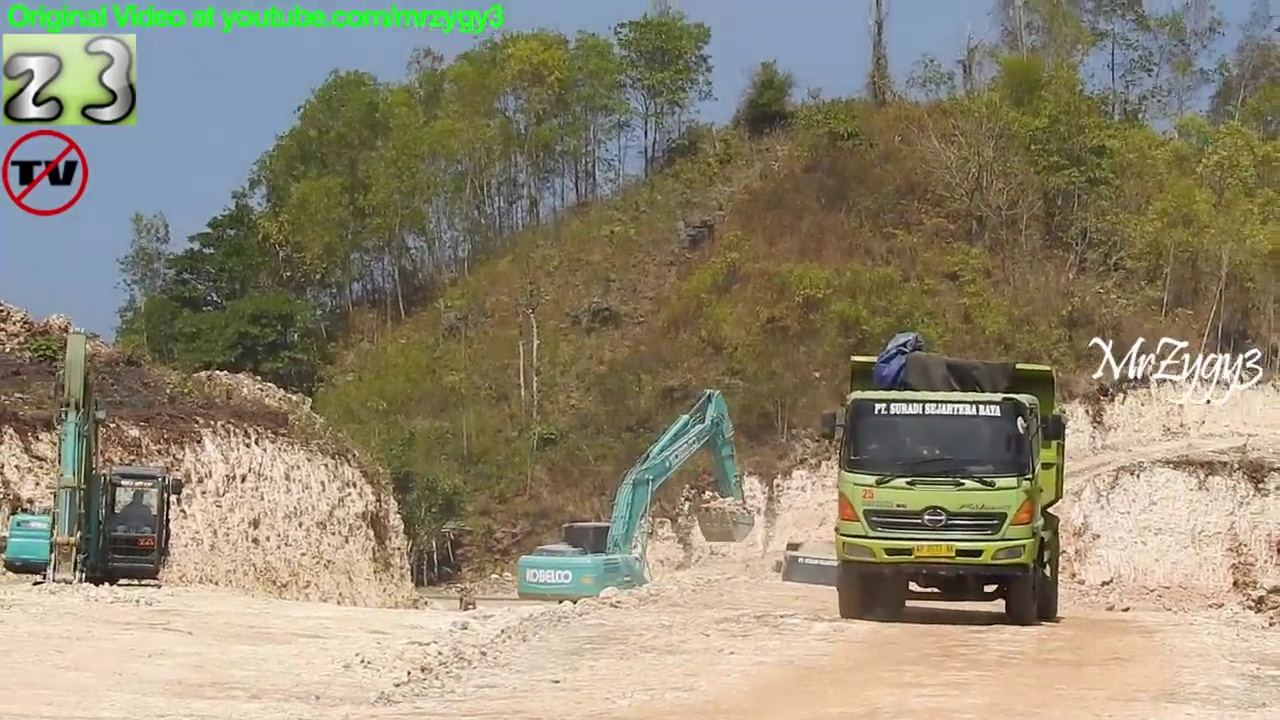excavator: (509, 383, 760, 634), (1, 322, 188, 623)
truck: (815, 350, 1072, 630), (768, 537, 879, 644)
